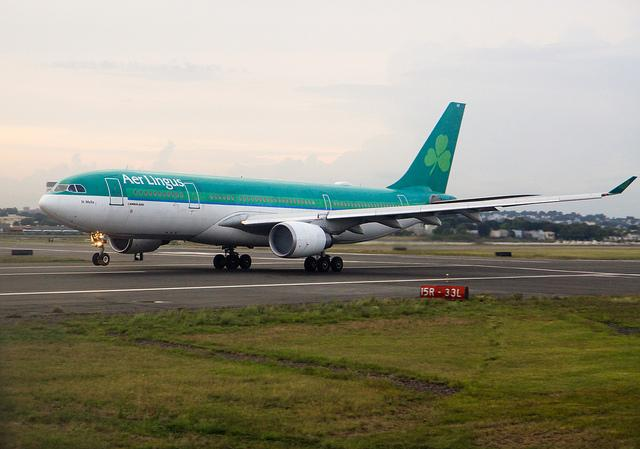airplane: (29, 87, 640, 273)
